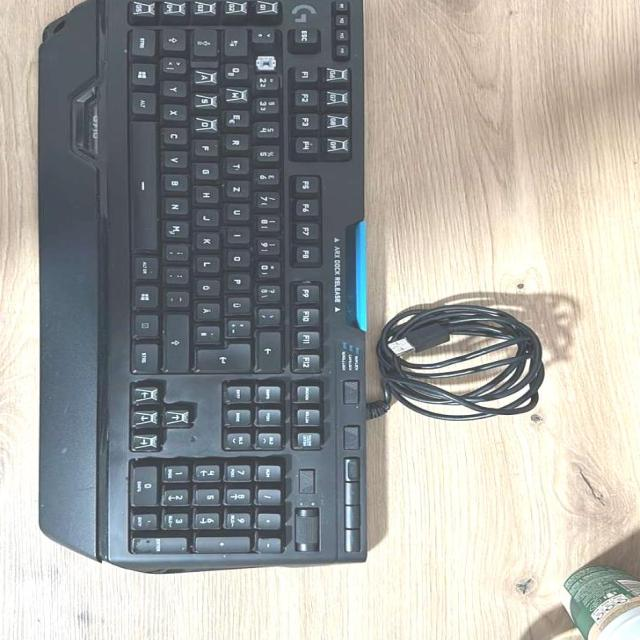keyboard: (90, 0, 376, 582)
